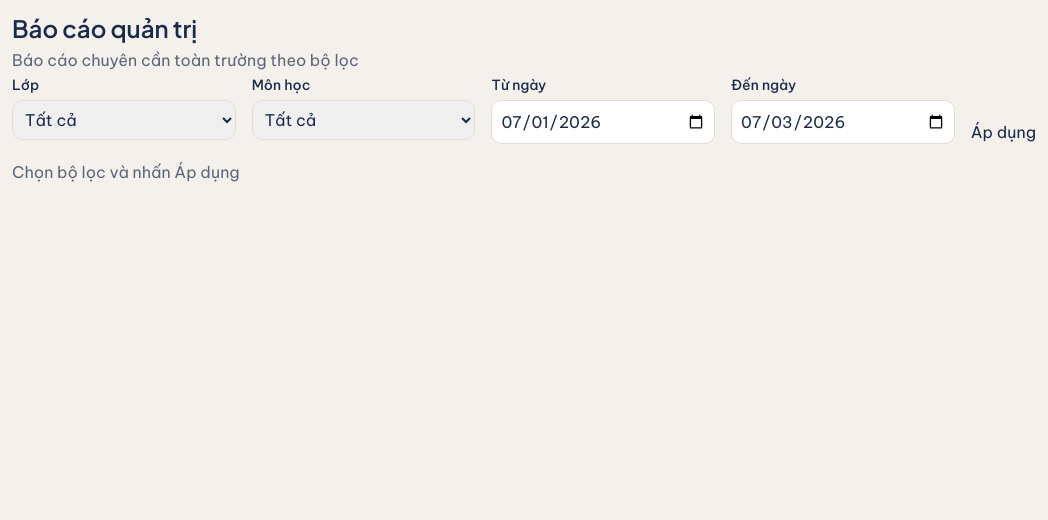
it: Admin report pages (NFR-17) › TC-AC-12-012: AdminReportsPage shows Vietnamese filter labels, summary cards, and table headers
Check: the dropdown labelled "Lớp" is shown, box top-left (12, 100), bottom-right (236, 140)
Check: the dropdown labelled "Môn học" is shown, box top-left (252, 100), bottom-right (475, 140)
Step 1. Click the button "Áp dụng" → [1003, 132], box top-left (971, 120), bottom-right (1036, 144)
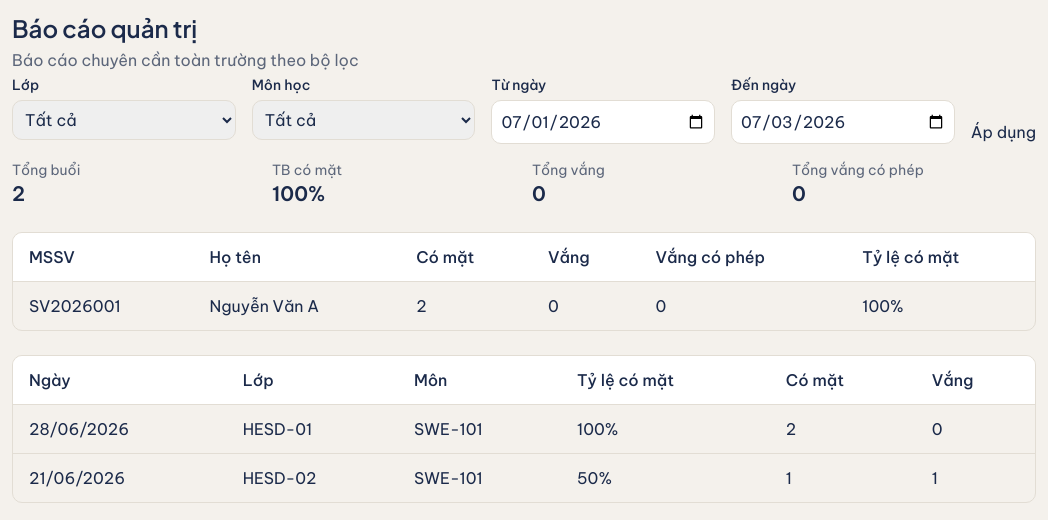
Check: the element with test id "report-summary-cards" is shown, box top-left (12, 160), bottom-right (1036, 208)
Check: the text "Tổng buổi" is shown, box top-left (12, 161), bottom-right (80, 179)
Check: the text "TB có mặt" is shown, box top-left (272, 161), bottom-right (342, 179)
